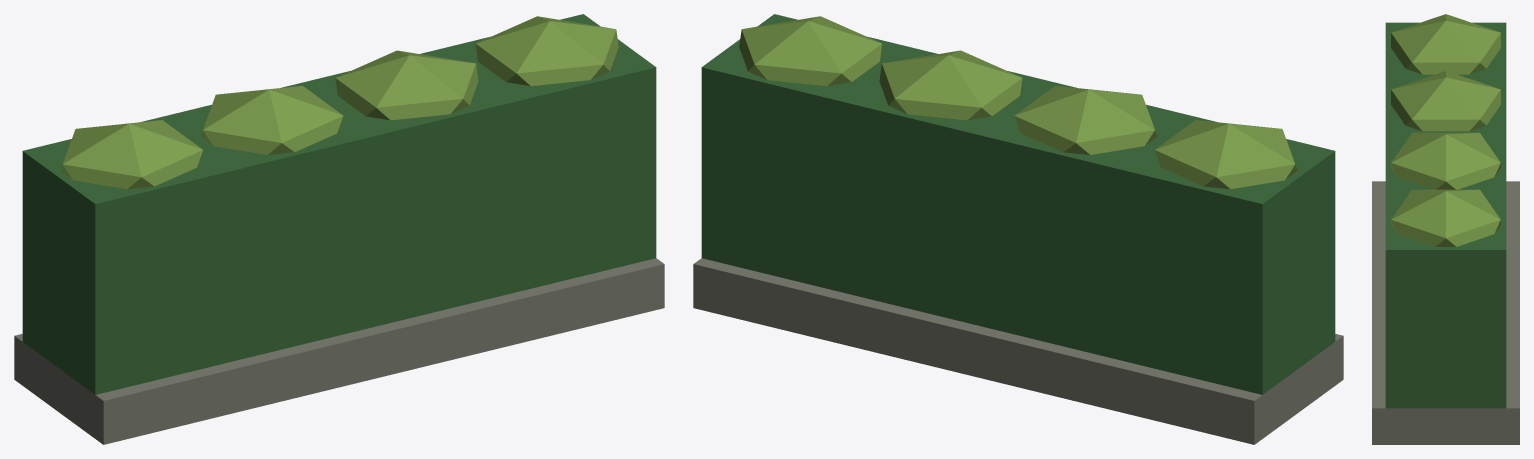
The model's file is Backyard_HedgeStraight_Standard.glb.
The picture shows the model from 3 angles, left to right: view 1: azimuth 30°, elevation 25°; view 2: azimuth 150°, elevation 25°; view 3: azimuth 270°, elevation 25°; orthographic projection. The views are drawn at different scales.
Visible parts, largest first — view 1: Backyard_HedgeStraight_Standard; view 2: Backyard_HedgeStraight_Standard; view 3: Backyard_HedgeStraight_Standard.
Boxes of the visible parts, x1,y1,x2,y2 form: Backyard_HedgeStraight_Standard: [14, 14, 664, 444]; Backyard_HedgeStraight_Standard: [693, 14, 1343, 444]; Backyard_HedgeStraight_Standard: [1372, 14, 1519, 444].
Size of the model in its own units: 4 by 1.85 by 1.1.
